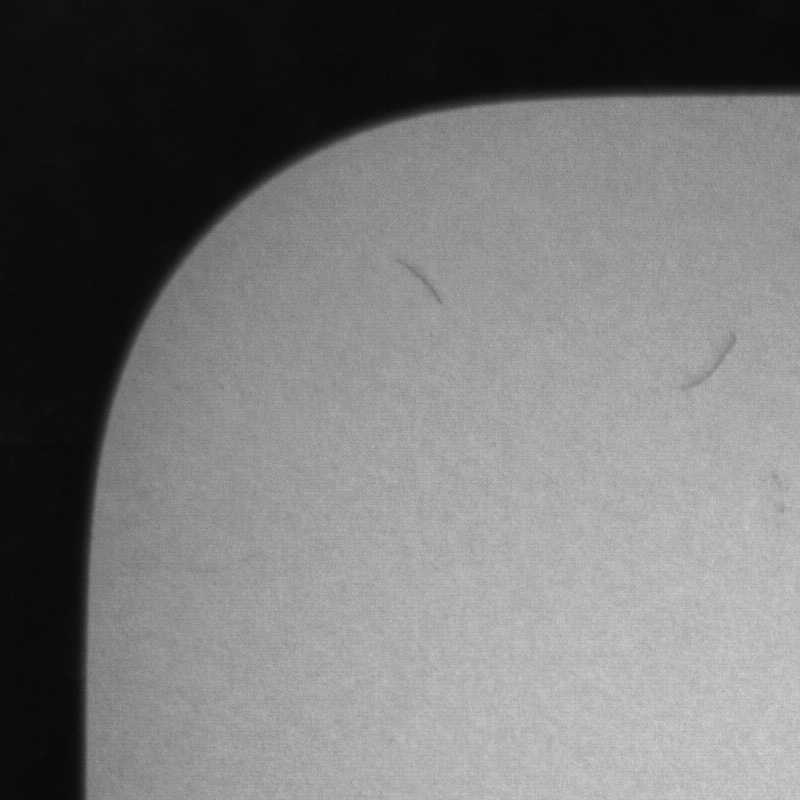defect: (678, 336, 741, 395), (397, 260, 453, 309)
